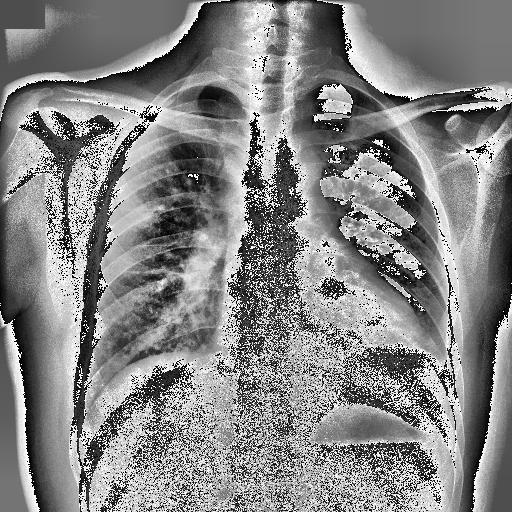3- Cardiomegaly: (214, 270, 424, 358), (216, 310, 431, 379), (216, 305, 422, 362)
